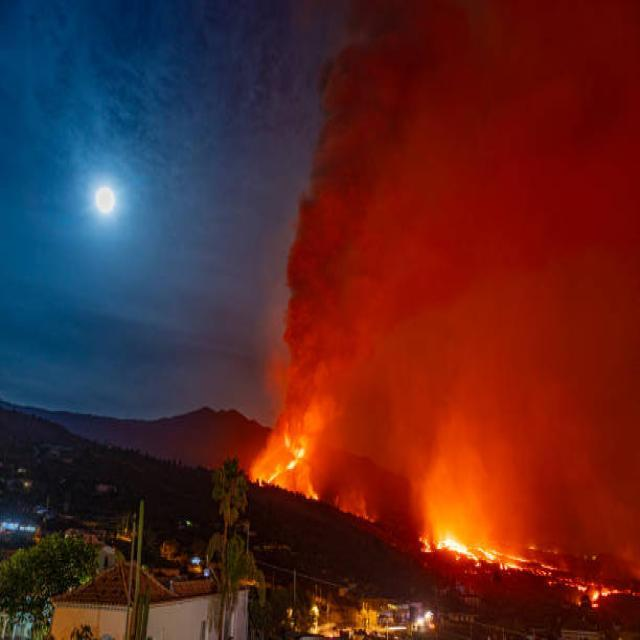Fire: (428, 526, 538, 577), (254, 423, 320, 502)
Smoke: (250, 14, 502, 502)
